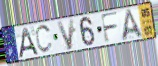6: (78, 16, 97, 49)
A: (121, 8, 145, 43), (18, 26, 40, 60)
C: (35, 23, 54, 54)
F: (100, 10, 120, 45)
V: (56, 17, 75, 52)
